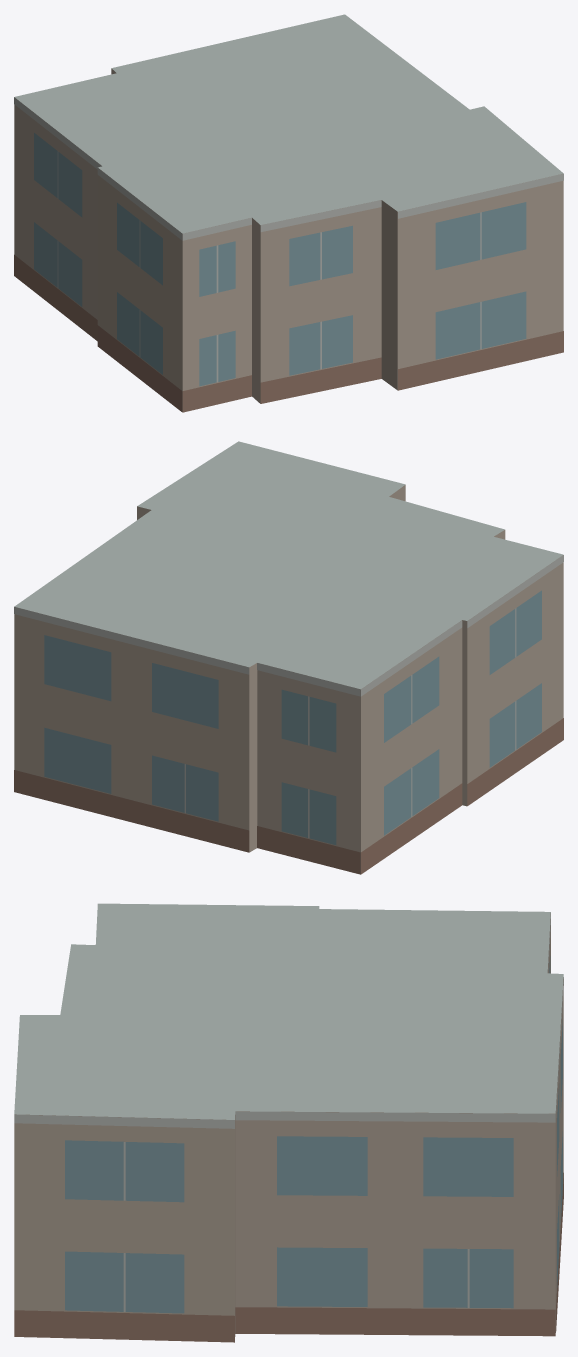
The model's file is survey-upis-32916226.glb.
3 views of the same model, one above another, from view 1: azimuth 30°, elevation 25°; view 2: azimuth 150°, elevation 25°; view 3: azimuth 270°, elevation 25° (orthographic). The views are drawn at different scales.
Parts seen in each view (by area): view 1: survey-upis-32916226.tmp; view 2: survey-upis-32916226.tmp; view 3: survey-upis-32916226.tmp.
Boxes of the visible parts, left/top/right/bottom form: survey-upis-32916226.tmp: left=14, top=14, right=563, bottom=412; survey-upis-32916226.tmp: left=14, top=441, right=563, bottom=874; survey-upis-32916226.tmp: left=14, top=903, right=563, bottom=1342.
Size of the model in its own units: 12.75 by 6.1 by 13.67.
